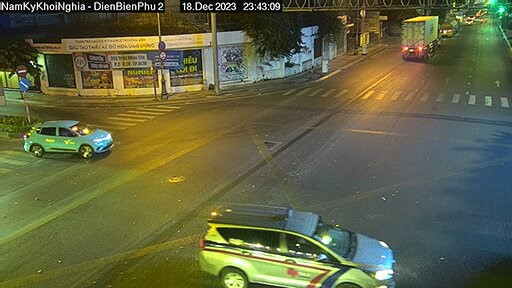car: (174, 187, 400, 287), (22, 116, 125, 160)
truck: (393, 9, 454, 55)
